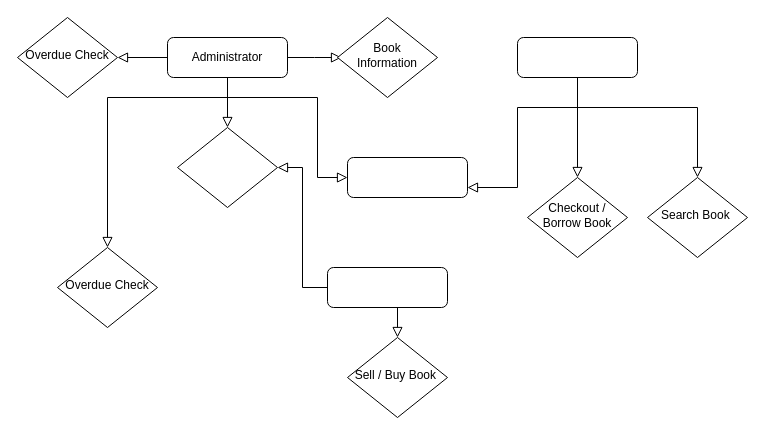
The diagram is 765 pixels wide and 435 high, and some of its shapes have lost their labels. The box of each missing label's shape, as (x1, y1, x2, y2) in pixels:
Add / Delete Book: (176, 126, 278, 208)
Login System: (346, 156, 468, 198)
Publisher: (326, 266, 448, 308)
User: (516, 36, 638, 78)
